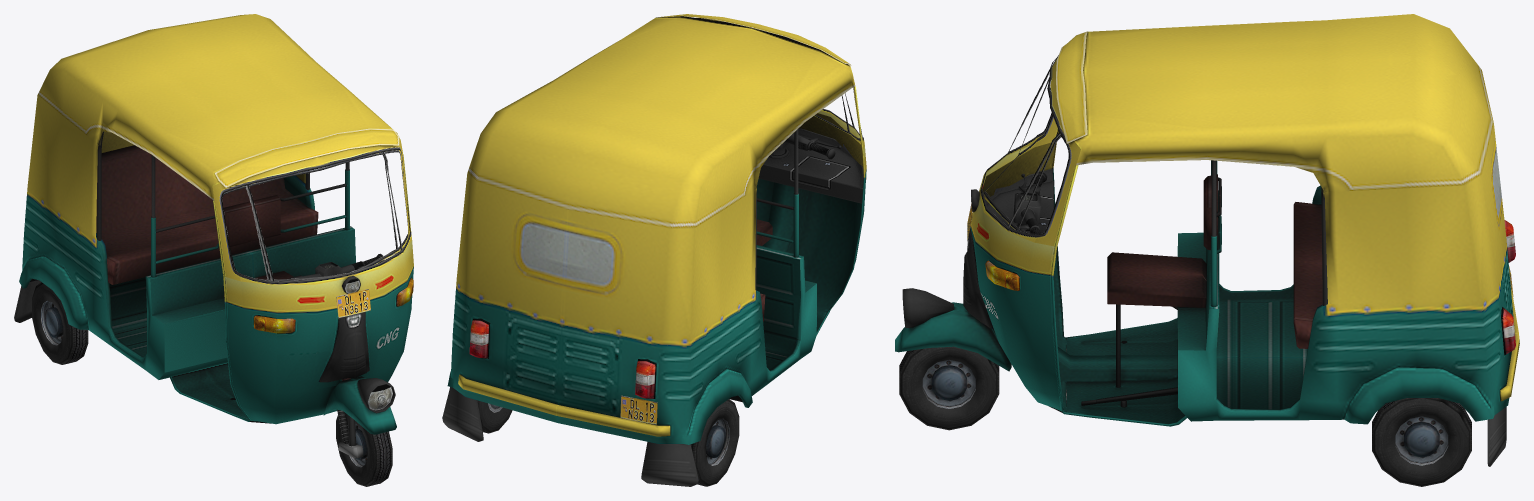
The model's file is auto.fbx.
3 views of the same model, side by side, from view 1: azimuth 30°, elevation 25°; view 2: azimuth 150°, elevation 25°; view 3: azimuth 270°, elevation 25° (orthographic). The views are drawn at different scales.
Parts seen in each view (by area): view 1: Auto_body, Auto_BR_wheel, Auto_F_wheel, Auto_FR_indicator, Auto_Hea_light; view 2: Auto_body, Auto_BR_wheel, Auto_BR_indicator, Auto_BL_indicator, Auto_BL_wheel; view 3: Auto_body, Auto_BL_wheel, Auto_F_wheel.
Part boxes in pixels (x1,y1,x2,y2): Auto_body: (14,14,413,458); Auto_BR_wheel: (32,282,88,364); Auto_F_wheel: (336,413,392,486); Auto_FR_indicator: (253,315,295,333); Auto_Hea_light: (368,384,392,410); Auto_body: (442,14,866,486); Auto_BR_wheel: (691,399,739,486); Auto_BR_indicator: (635,359,656,398); Auto_BL_indicator: (469,318,490,358); Auto_BL_wheel: (477,400,512,433); Auto_body: (895,14,1519,466); Auto_BL_wheel: (1372,398,1471,486); Auto_F_wheel: (899,346,999,430).
Size of the model in its own units: 149 by 183 by 282.
